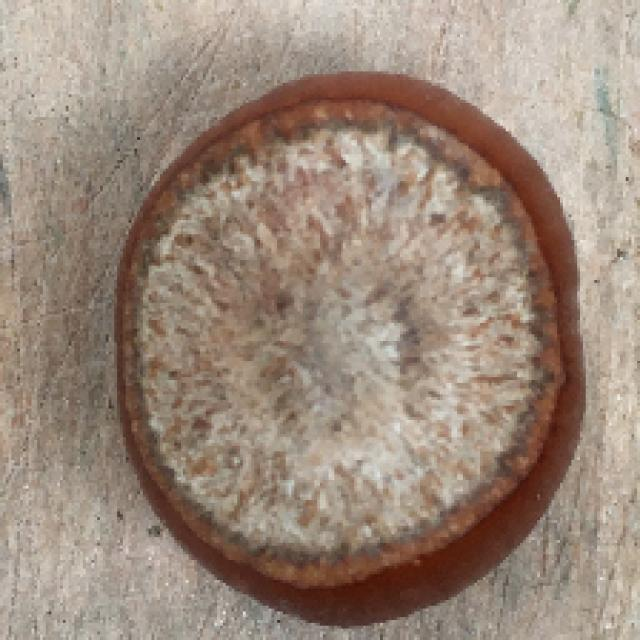qualityHazelnut: (108, 62, 587, 630)
